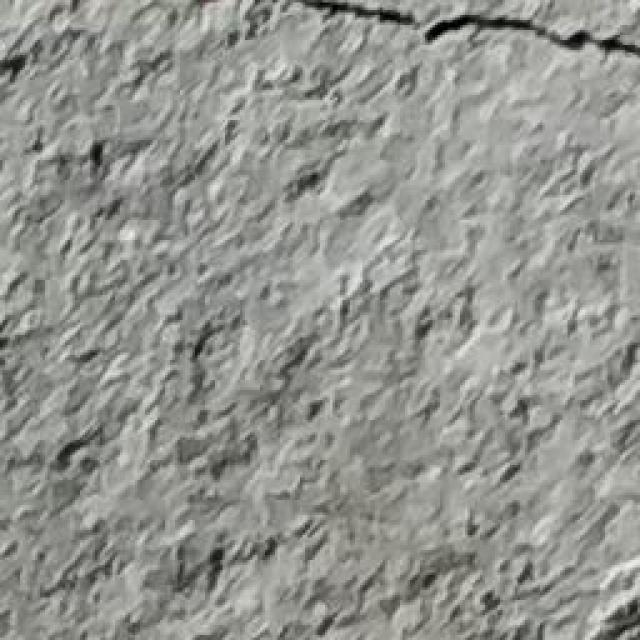Rippled: (0, 72, 640, 640)
Transverse: (271, 0, 640, 66)
